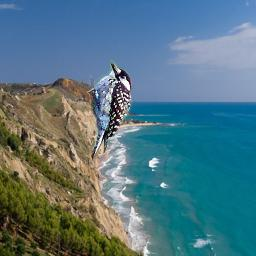Woodpecker: (76, 57, 139, 166)
